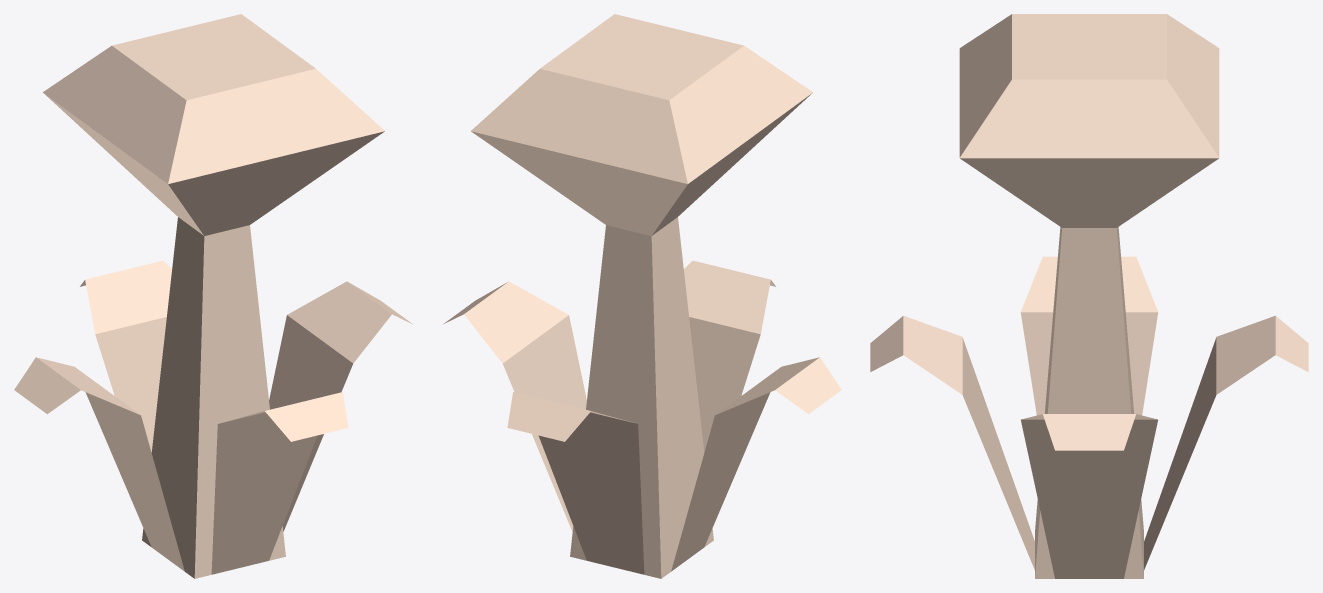
File: flower_beige2.fbx
The picture shows the model from 3 angles, left to right: view 1: azimuth 30°, elevation 25°; view 2: azimuth 150°, elevation 25°; view 3: azimuth 270°, elevation 25°; orthographic projection. The views are drawn at different scales.
Parts seen in each view (by area): view 1: flower_beige2; view 2: flower_beige2; view 3: flower_beige2.
Boxes of the visible parts, x1,y1,x2,y2 form: flower_beige2: (14, 14, 412, 578); flower_beige2: (443, 14, 841, 578); flower_beige2: (870, 14, 1308, 578).
Size of the model in its own units: 51.43 by 65.88 by 51.43.
